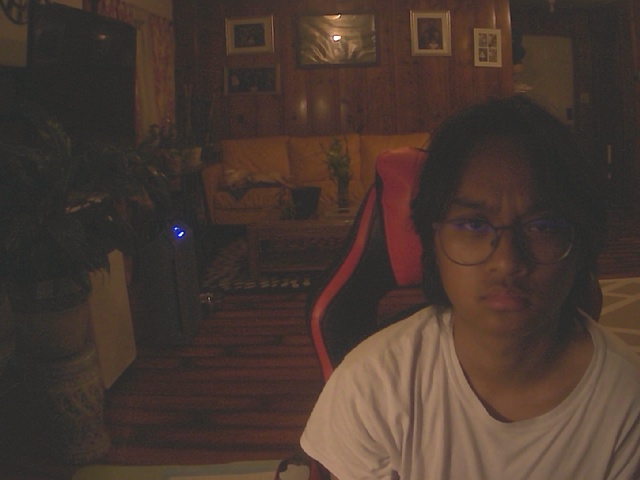anger: (409, 99, 607, 339)
